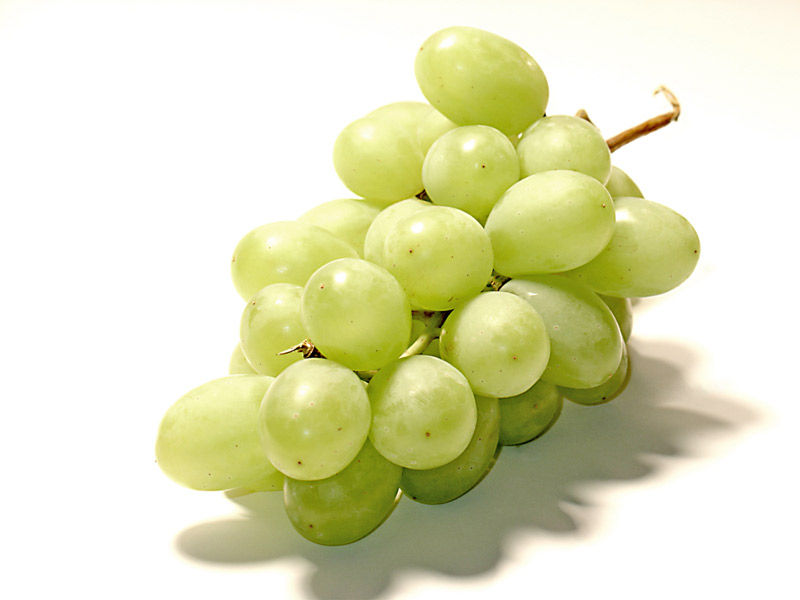Green grapes: (120, 39, 692, 515)
